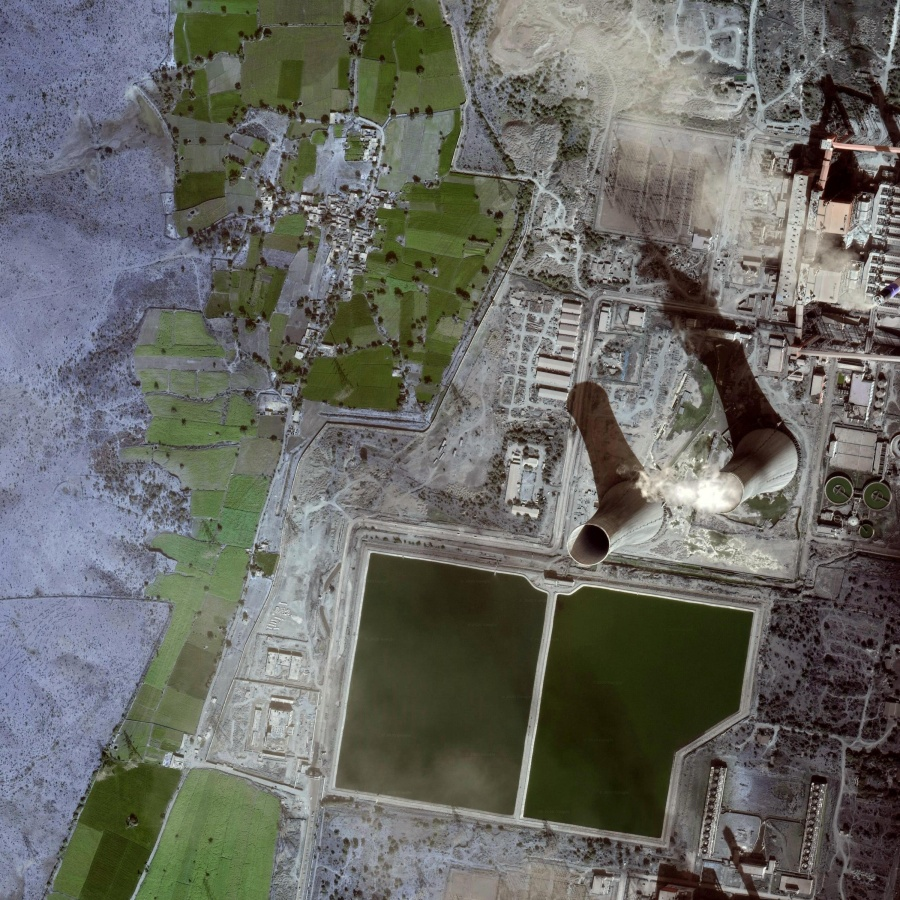PowerPlant: (322, 548, 760, 856)
